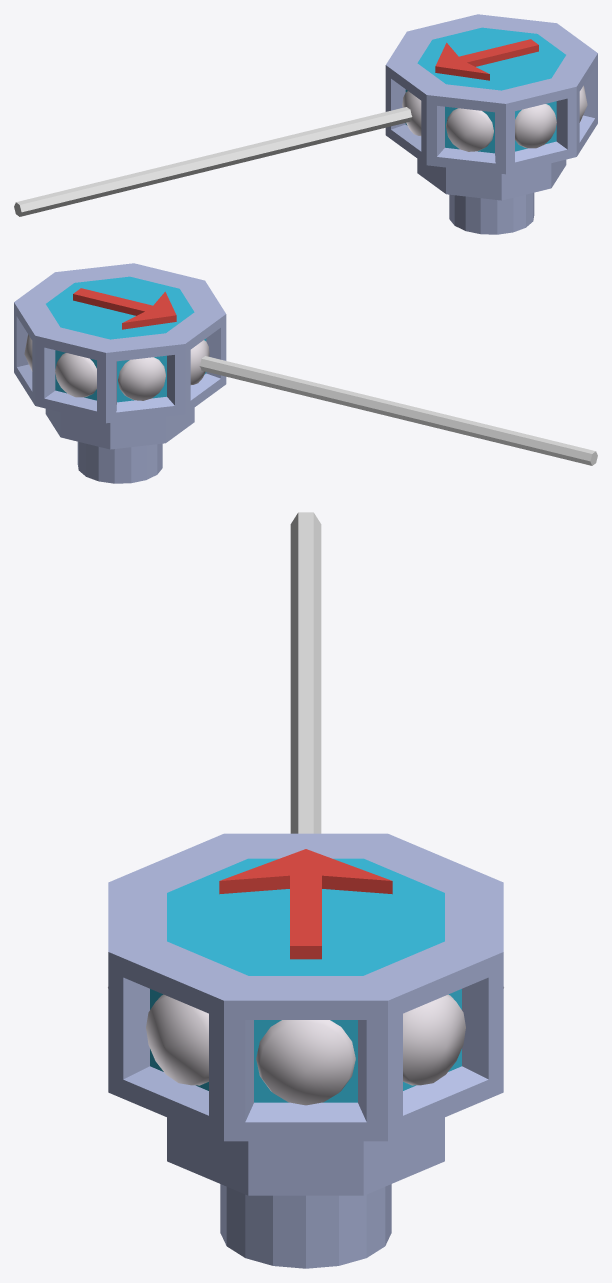
File: Laser.fbx
3 views of the same model, one above another, from view 1: azimuth 30°, elevation 25°; view 2: azimuth 150°, elevation 25°; view 3: azimuth 270°, elevation 25° (orthographic). The views are drawn at different scales.
Parts seen in each view (by area): view 1: Cylinder.001, Ray; view 2: Cylinder.001, Ray; view 3: Cylinder.001, Ray.
Boxes of the visible parts, x1,y1,x2,y2 form: Cylinder.001: (385, 14, 597, 234); Ray: (14, 107, 412, 216); Cylinder.001: (14, 263, 226, 483); Ray: (199, 356, 597, 465); Cylinder.001: (108, 833, 503, 1268); Ray: (290, 512, 321, 833).
Size of the model in its own units: 604 by 169 by 185.
